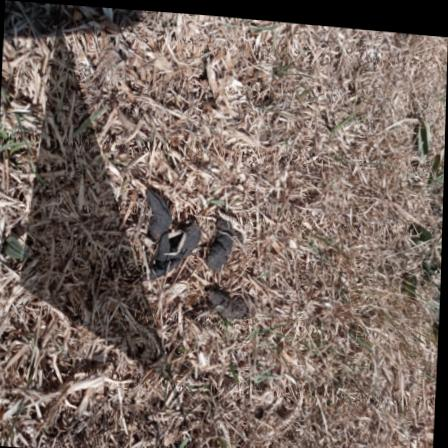dog-poop: (136, 176, 258, 317)
